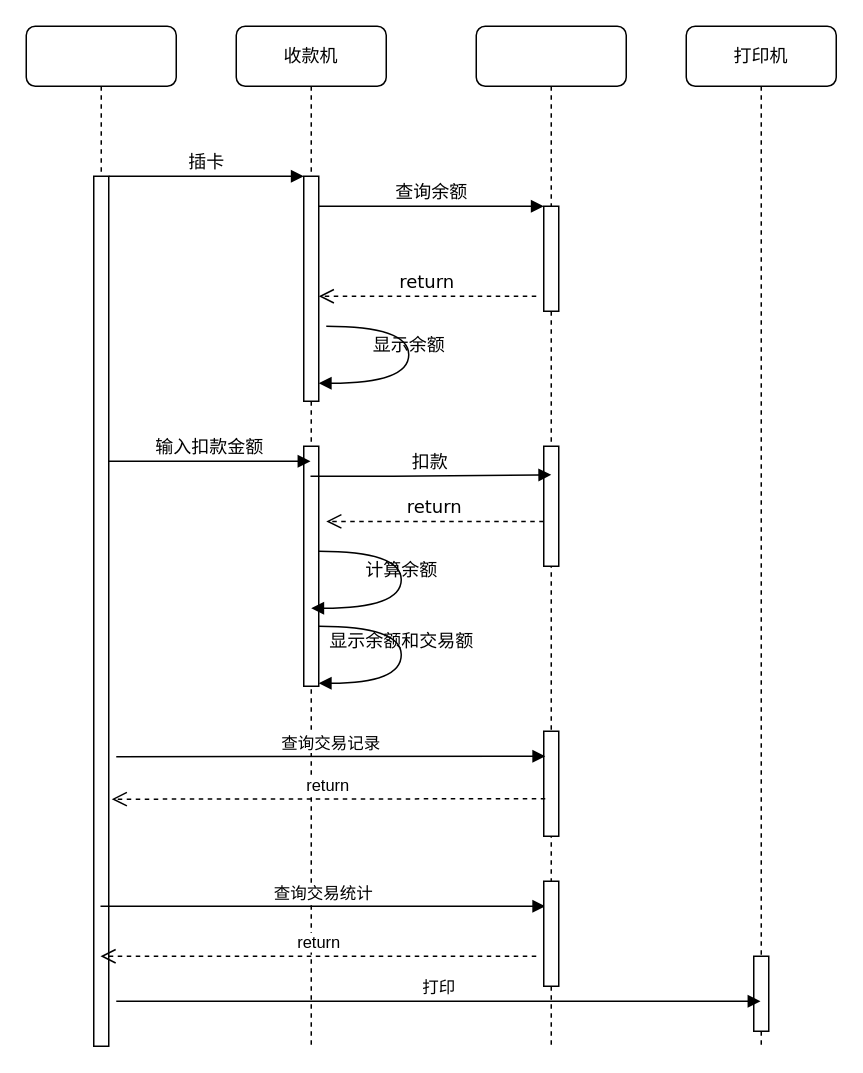
This 863x1073 diagram has some shape labels left out. The shapes that lost their labels are listed below. From the top down, each one's box as (x1, y1, x2, y2) in pixels, then its label:
(25, 25, 176, 1046): 操作人
(475, 25, 626, 1046): 交易系统
